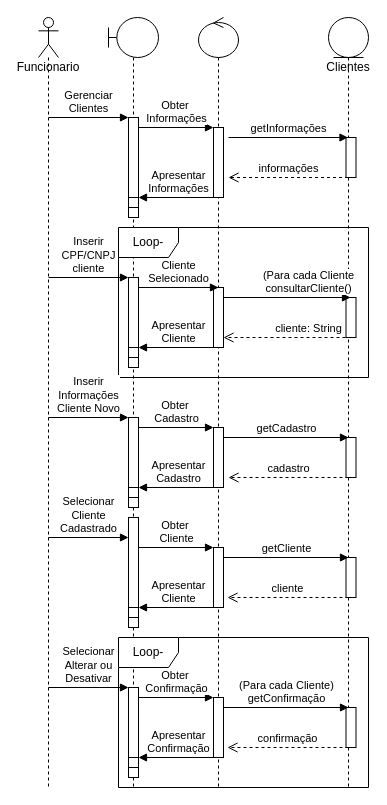
Image size: 387x805. Some labels were removed from this diagram. The centre of each missing label's shape, as x and y in pixels:
"Clientes Controller" belongs at [218,402].
"Tela de Clientes" belongs at [133,402].
